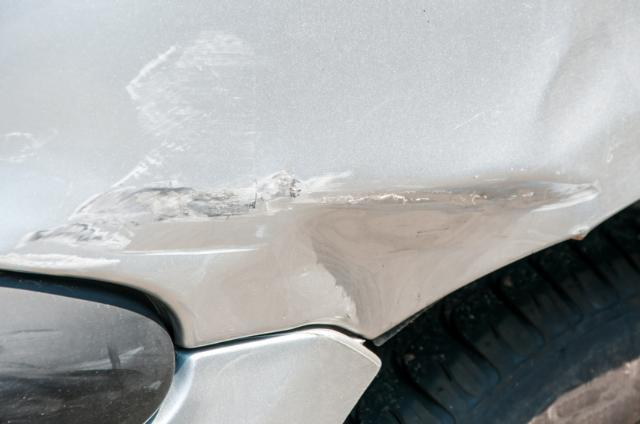Fender: (0, 25, 640, 344)
